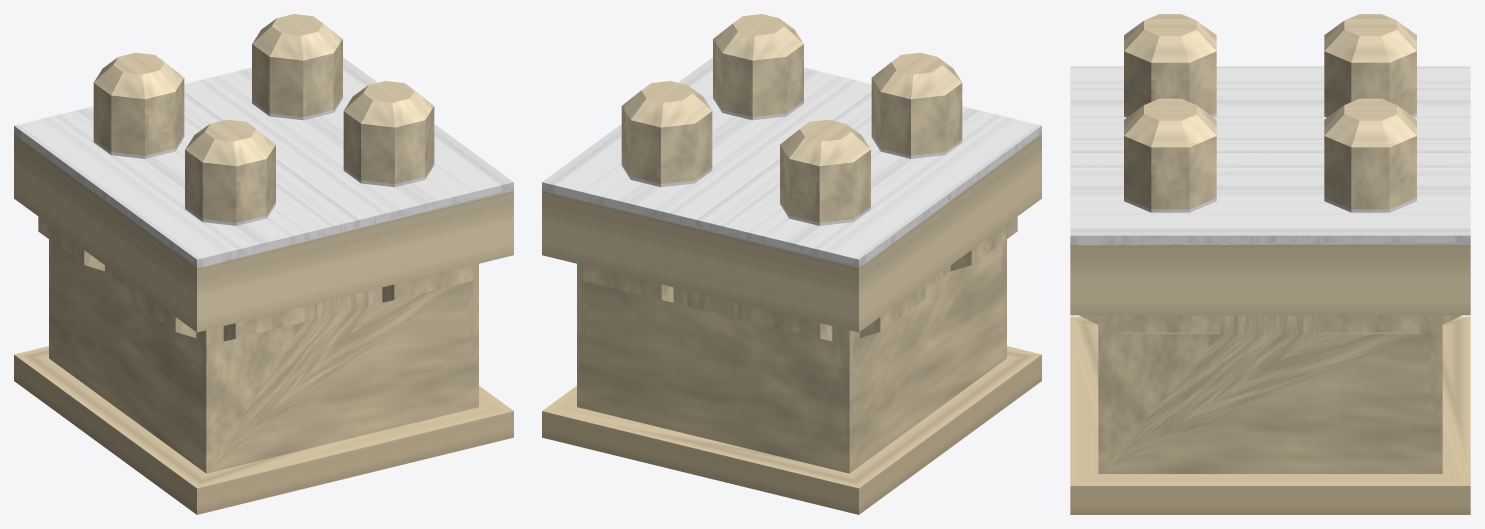
The picture shows the model from 3 angles, left to right: view 1: azimuth 30°, elevation 25°; view 2: azimuth 150°, elevation 25°; view 3: azimuth 270°, elevation 25°; orthographic projection. The views are drawn at different scales.
Visible parts, largest first — view 1: wall; view 2: wall; view 3: wall.
Part boxes in pixels (x1,y1,x2,y2): wall: [14, 14, 513, 514]; wall: [542, 14, 1041, 514]; wall: [1070, 14, 1470, 514].
Size of the model in its own units: 1 by 1 by 1.
1 material, 1 textured.
